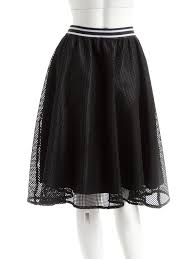C_skirt: (25, 20, 180, 225)
